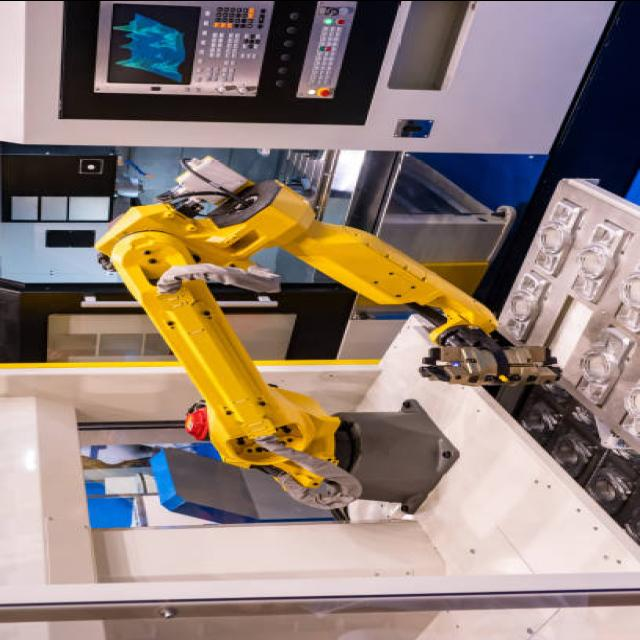Robotic-arm: (96, 157, 500, 519)
